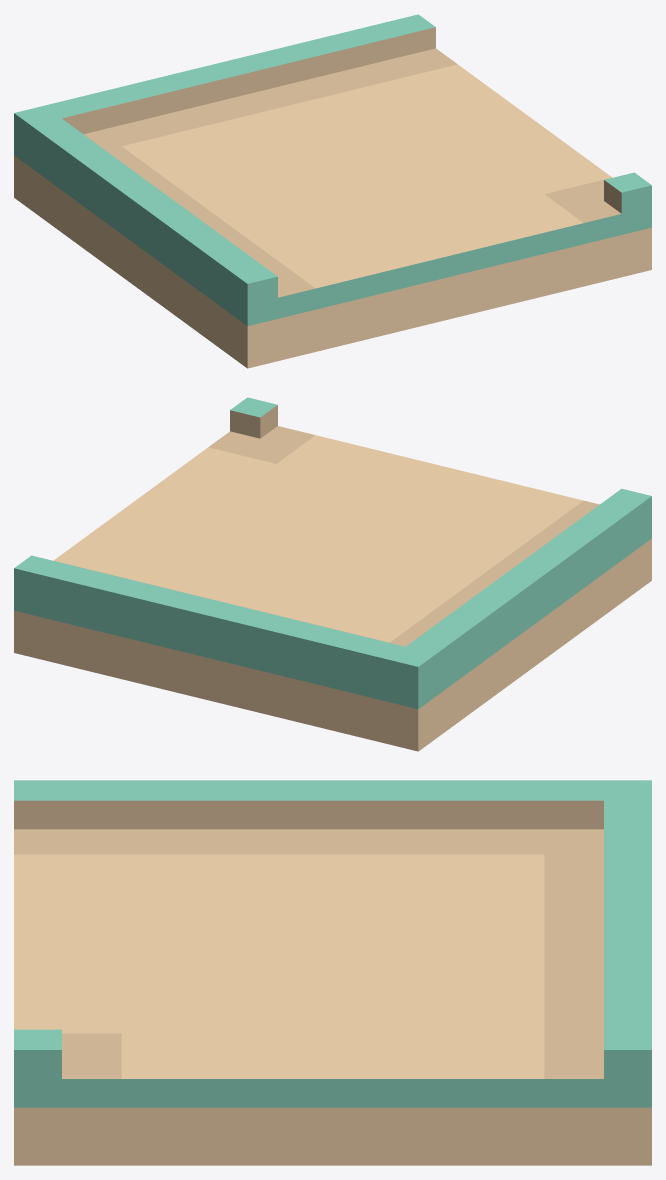
Rendered from tile_cornerSquare.fbx.
3 views of the same model, one above another, from view 1: azimuth 30°, elevation 25°; view 2: azimuth 150°, elevation 25°; view 3: azimuth 270°, elevation 25° (orthographic). The views are drawn at different scales.
Visible parts, largest first — view 1: tile_cornerSquare; view 2: tile_cornerSquare; view 3: tile_cornerSquare.
Boxes of the visible parts, left/top/right/bottom form: tile_cornerSquare: left=14, top=14, right=651, bottom=368; tile_cornerSquare: left=14, top=397, right=651, bottom=751; tile_cornerSquare: left=14, top=780, right=651, bottom=1165.
Bounding box in the file's own units: 100 × 20 × 100.
